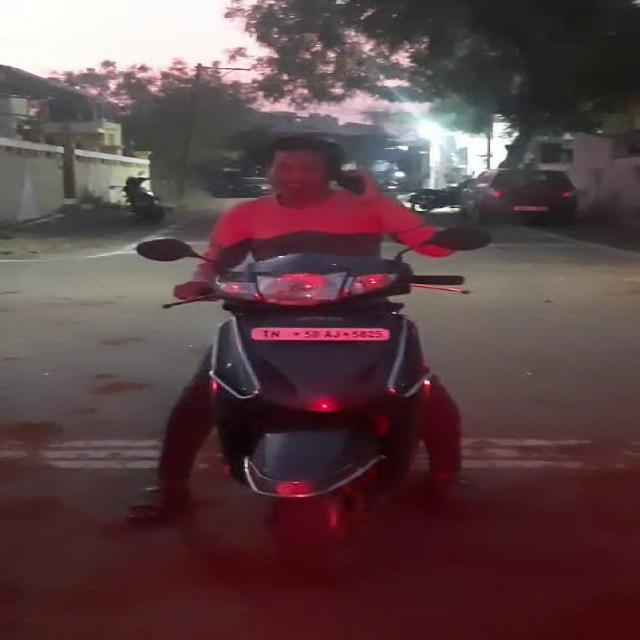USING_MOBILE: (333, 167, 426, 241)
